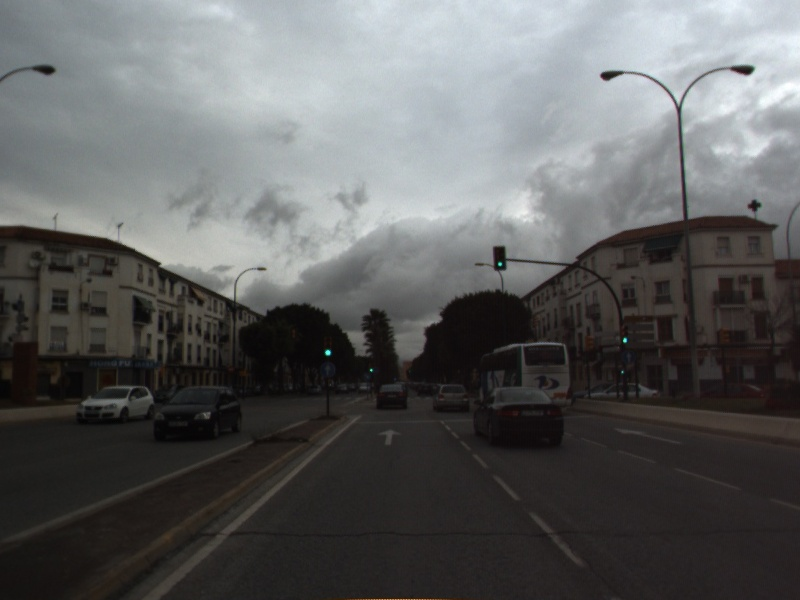STRAIGHT: (612, 425, 684, 446), (375, 427, 405, 447)
